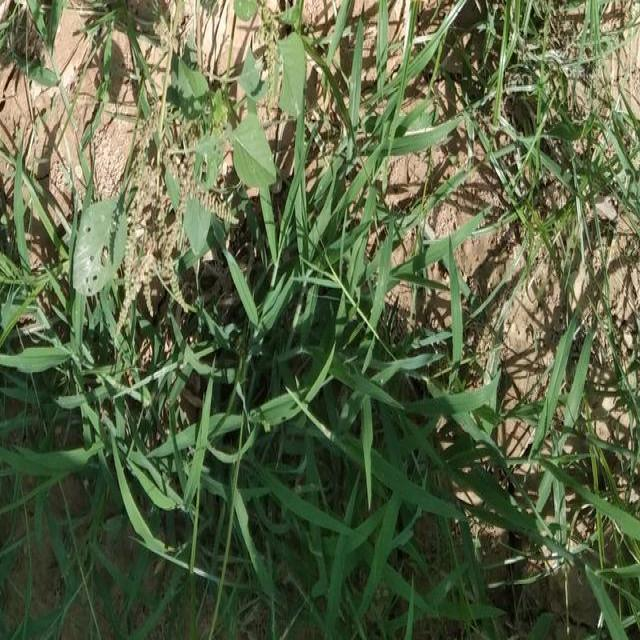weed: (166, 251, 627, 638), (4, 219, 166, 628), (234, 55, 400, 220)
